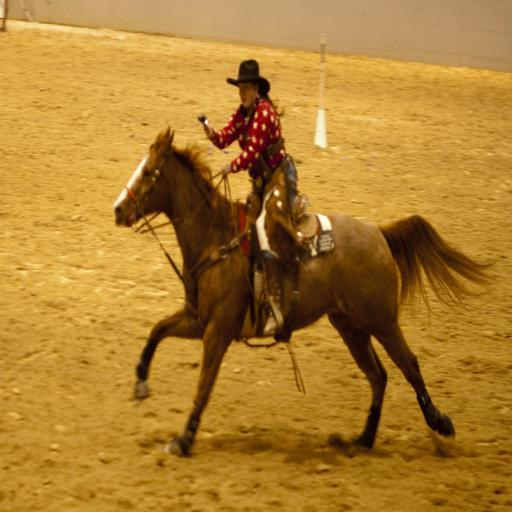Horse: (114, 126, 498, 460)
